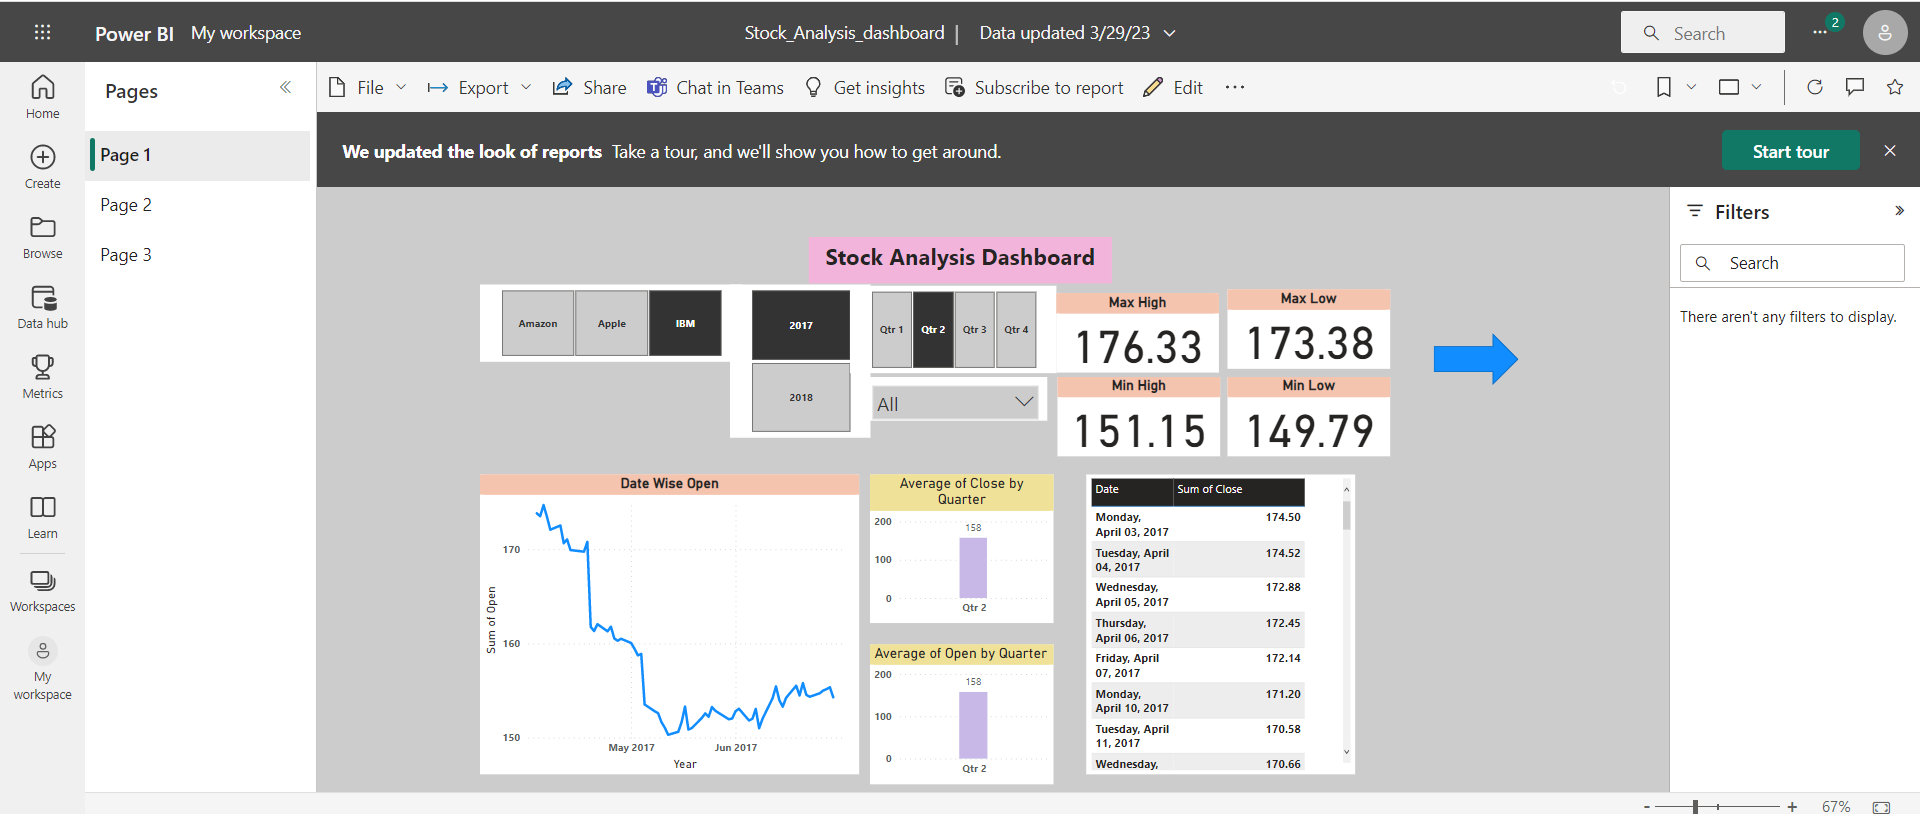

What the dashboard file says about the page in this screenshot:
{"tool":"powerbi","page":{"name":"Page 1","canvas":[1280,720],"ordinal":0},"visuals":[{"type":"slicer","fields":{"Values":["Combined.Company"]},"box":[30.2,116.6,311.5,91.9],"z":0},{"type":"textbox","box":[421.3,59,360.9,54.9],"z":1000},{"type":"slicer","fields":{"Values":["Combined.Date.Variation.Date Hierarchy.Year"]},"box":[326.6,116.6,167.4,182.5],"z":2000},{"type":"slicer","fields":{"Values":["Combined.Date.Variation.Date Hierarchy.Quarter"]},"box":[470.7,118,245.6,104.3],"z":3000},{"type":"slicer","fields":{"Values":["Combined.Date.Variation.Date Hierarchy.Month"]},"box":[485.8,226.4,218.2,52.1],"z":4000},{"type":"card","title":"Max High","fields":{"Values":["Max(Combined.High)"]},"box":[714.9,126.2,193.5,94.7],"z":5000},{"type":"card","title":"Max Low","fields":{"Values":["Max(Combined.Low)"]},"box":[919.4,122.1,193.5,94.7],"z":6000},{"type":"card","title":"Min High","fields":{"Values":["Min(Combined.High)"]},"box":[716.3,226.4,193.5,94.7],"z":7000},{"type":"card","title":"Min Low","fields":{"Values":["Min(Combined.Low)"]},"box":[919.4,226.4,193.5,94.7],"z":8000},{"type":"lineChart","title":"Date Wise Open","fields":{"Category":["Combined.Date.Variation.Date Hierarchy.Year","Combined.Date.Variation.Date Hierarchy.Quarter","Combined.Date.Variation.Date Hierarchy.Month","Combined.Date.Variation.Date Hierarchy.Day"],"Y":["Sum(Combined.Open)"]},"box":[30.2,341.7,451.5,356.8],"z":9000},{"type":"clusteredColumnChart","fields":{"Y":["Avg(Combined.Close)"],"Category":["Combined.Date.Variation.Date Hierarchy.Quarter"]},"box":[494,341.7,218.2,177],"z":10000},{"type":"clusteredColumnChart","fields":{"Category":["Combined.Date.Variation.Date Hierarchy.Quarter"],"Y":["Avg(Combined.Open)"]},"box":[494,544.8,218.2,166],"z":11000},{"type":"tableEx","fields":{"Values":["Combined.Date","Sum(Combined.Close)"]},"box":[750.6,341.7,319.7,356.8],"z":12000},{"type":"shape","box":[1164.3,173.6,100.4,61.3],"z":13000}]}

Visuals, with their boxes on the page's 1280x720 design canvas (x1, y1, x2, y2). These are canvas units, not pixel positions in the 1920x814 screenshot, which may show the page scaled, cropped or inside an application window:
slicer - Combined.Company: crop(30, 117, 342, 208)
textbox: crop(421, 59, 782, 114)
slicer - Combined.Date.Variation.Date Hierarchy.Year: crop(327, 117, 494, 299)
slicer - Combined.Date.Variation.Date Hierarchy.Quarter: crop(471, 118, 716, 222)
slicer - Combined.Date.Variation.Date Hierarchy.Month: crop(486, 226, 704, 278)
"Max High" card: crop(715, 126, 908, 221)
"Max Low" card: crop(919, 122, 1113, 217)
"Min High" card: crop(716, 226, 910, 321)
"Min Low" card: crop(919, 226, 1113, 321)
"Date Wise Open" lineChart: crop(30, 342, 482, 698)
clusteredColumnChart - Avg(Combined.Close) x Combined.Date.Variation.Date Hierarchy.Quarter: crop(494, 342, 712, 519)
clusteredColumnChart - Combined.Date.Variation.Date Hierarchy.Quarter x Avg(Combined.Open): crop(494, 545, 712, 711)
tableEx - Combined.Date x Sum(Combined.Close): crop(751, 342, 1070, 698)
shape: crop(1164, 174, 1265, 235)
